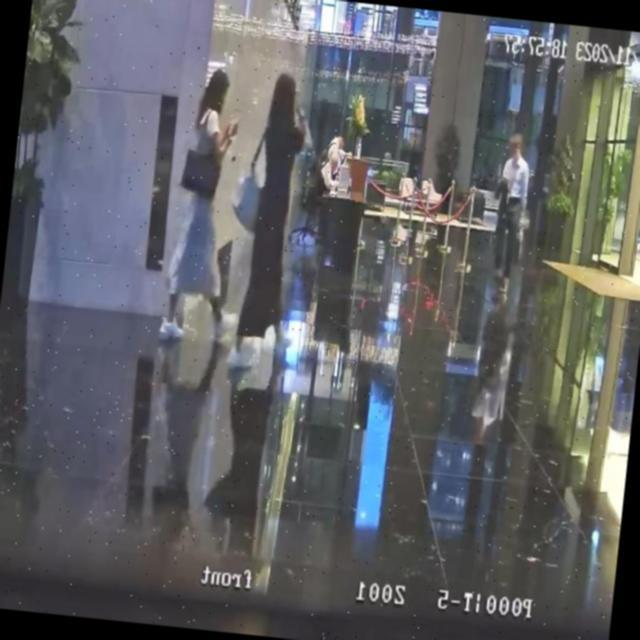person: (157, 66, 251, 346), (233, 70, 317, 349), (488, 130, 534, 283), (310, 152, 340, 208), (325, 131, 347, 161)
